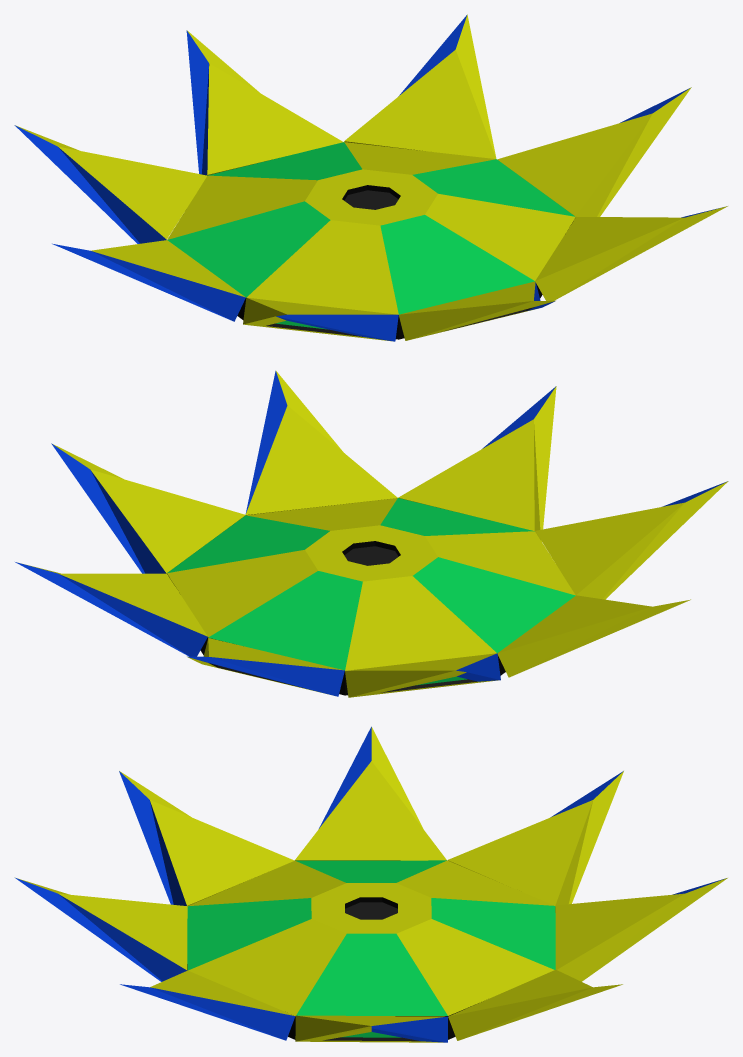
File: spawner3.obj
3 views of the same model, one above another, from view 1: azimuth 30°, elevation 25°; view 2: azimuth 150°, elevation 25°; view 3: azimuth 270°, elevation 25° (orthographic). The views are drawn at different scales.
Visible parts, largest first — view 1: Cone; view 2: Cone; view 3: Cone.
Part boxes in pixels (x1,y1,x2,y2): Cone: (14,14,727,341); Cone: (15,370,728,697); Cone: (14,726,727,1042).
Size of the model in its own units: 3.59 by 0.4698 by 3.59.
